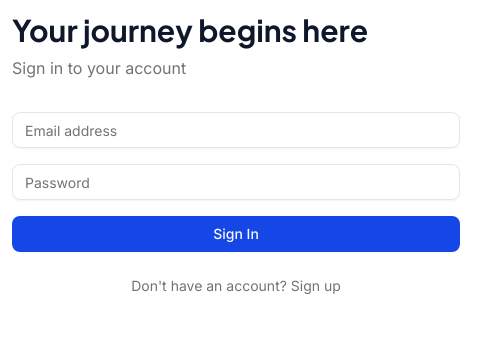
Scenario: LoginPage › shows error for 401 (invalid credentials)
Type "wrong@example.com" into the field with placeholder "Email address" at coordinates (236, 130), box 12,112 -> 460,148
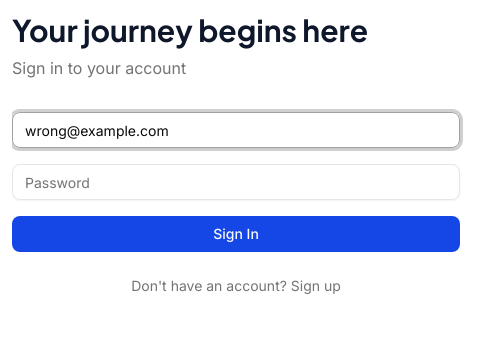
Type "wrongpass" into the password field with placeholder "Password" at coordinates (236, 182), box 12,164 -> 460,200
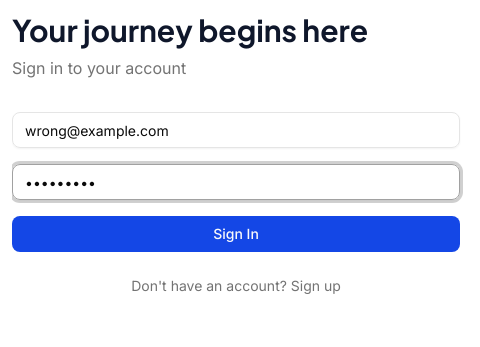
Click the button "Sign In" at coordinates (236, 234), box 12,216 -> 460,252
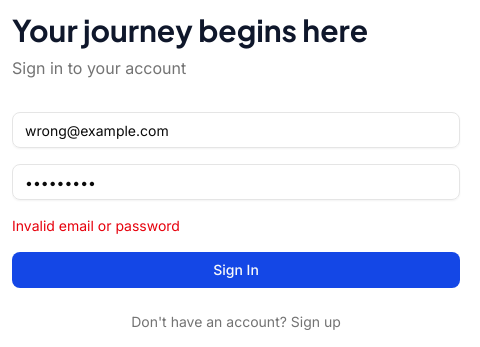
Check: the message reads "Invalid email or password", box 12,217 -> 180,234
